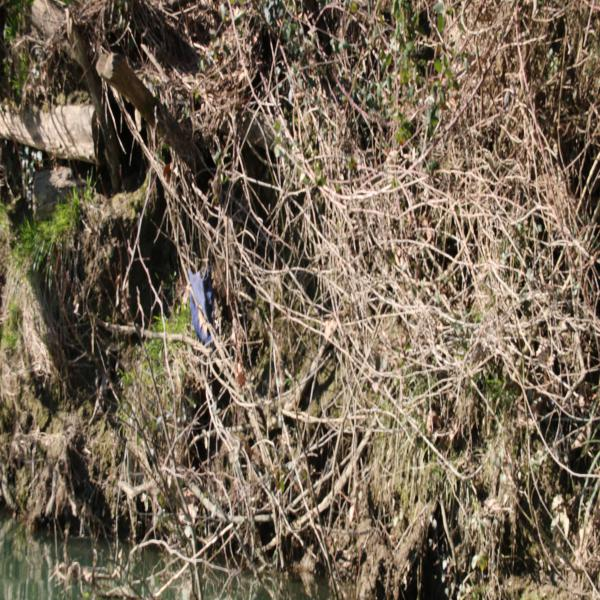fragments: (187, 266, 216, 344)
